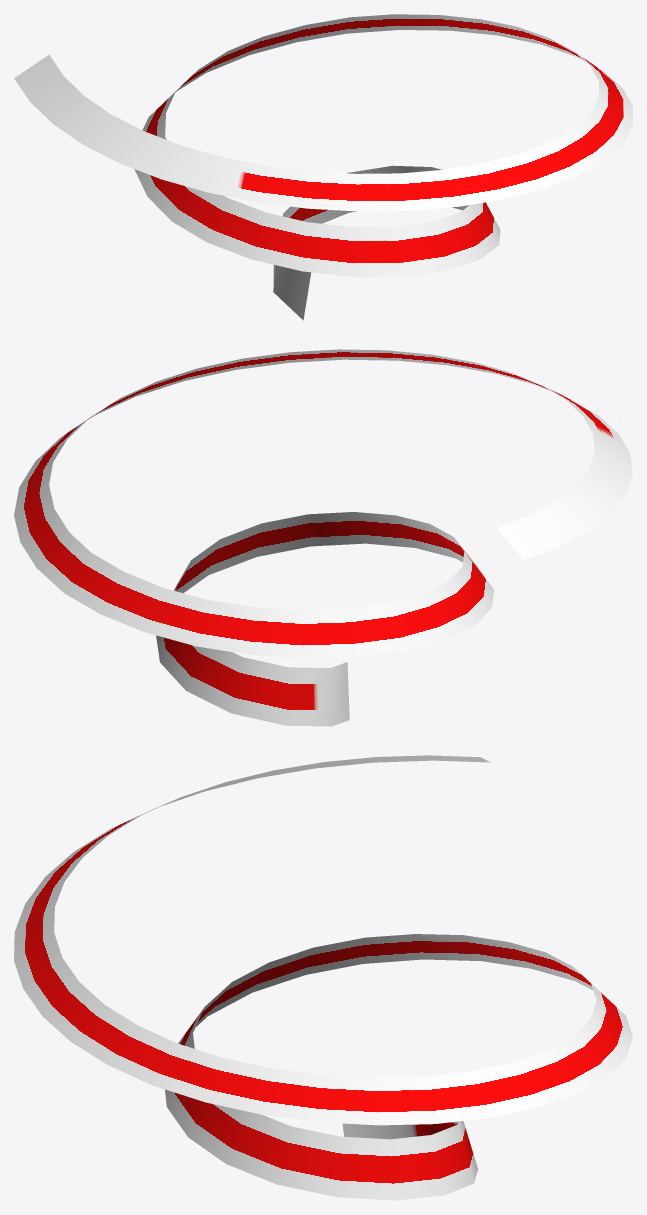
The model's file is luoxuan_001.FBX.
The picture shows the model from 3 angles, top to bottom: view 1: azimuth 30°, elevation 25°; view 2: azimuth 150°, elevation 25°; view 3: azimuth 270°, elevation 25°; orthographic projection. The views are drawn at different scales.
Visible parts, largest first — view 1: luoxuan; view 2: luoxuan; view 3: luoxuan.
Boxes of the visible parts, x1,y1,x2,y2 form: luoxuan: (14,14,632,320); luoxuan: (14,349,632,726); luoxuan: (14,755,632,1200).
Bounding box in the file's own units: 100 × 49.6 × 89.63.
